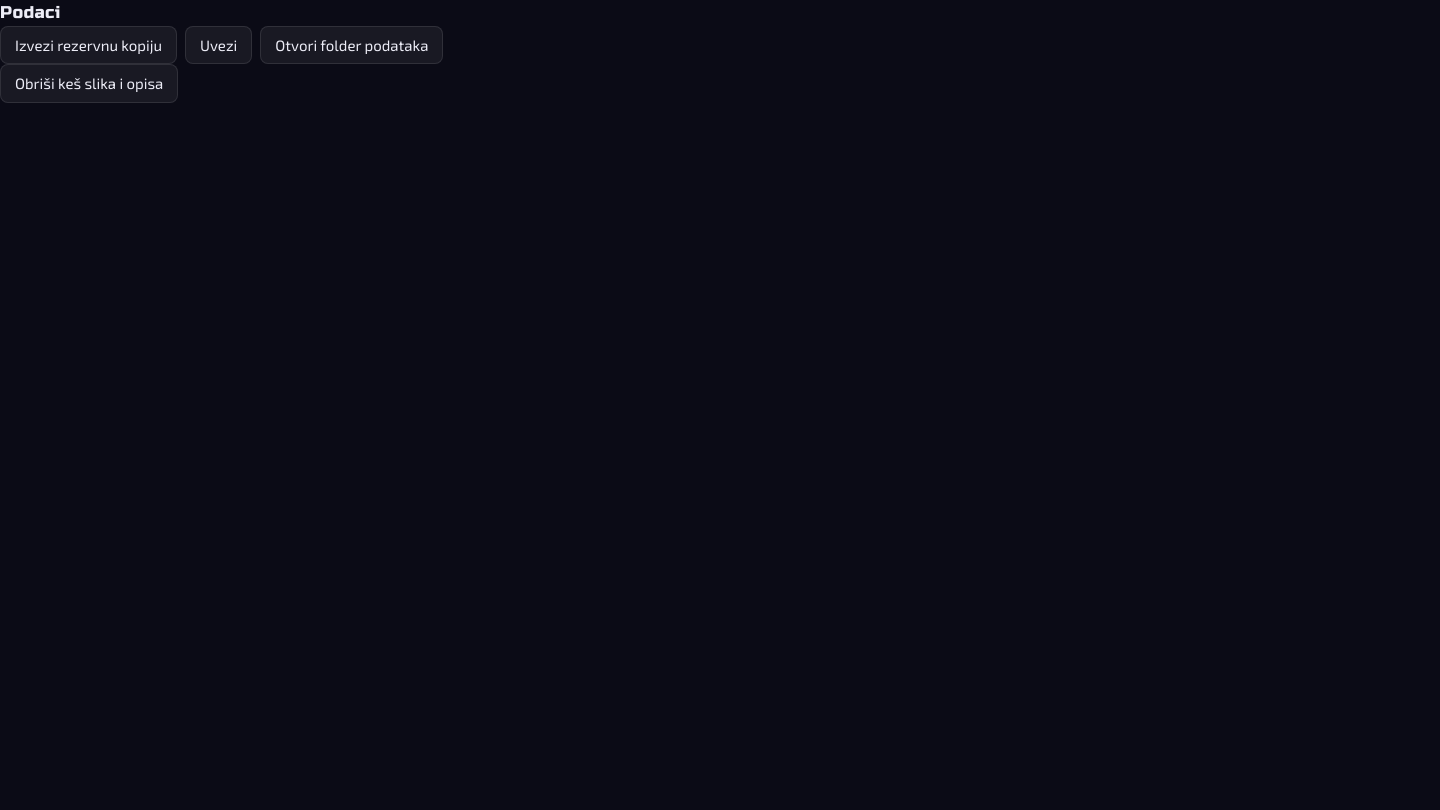
DataSection › omits the date line when the backup has no date and shows skipped entries when > 0
This screenshot has width=1440, height=810.
Click the button "Uvezi" at (219, 45), box 185,26 -> 252,64
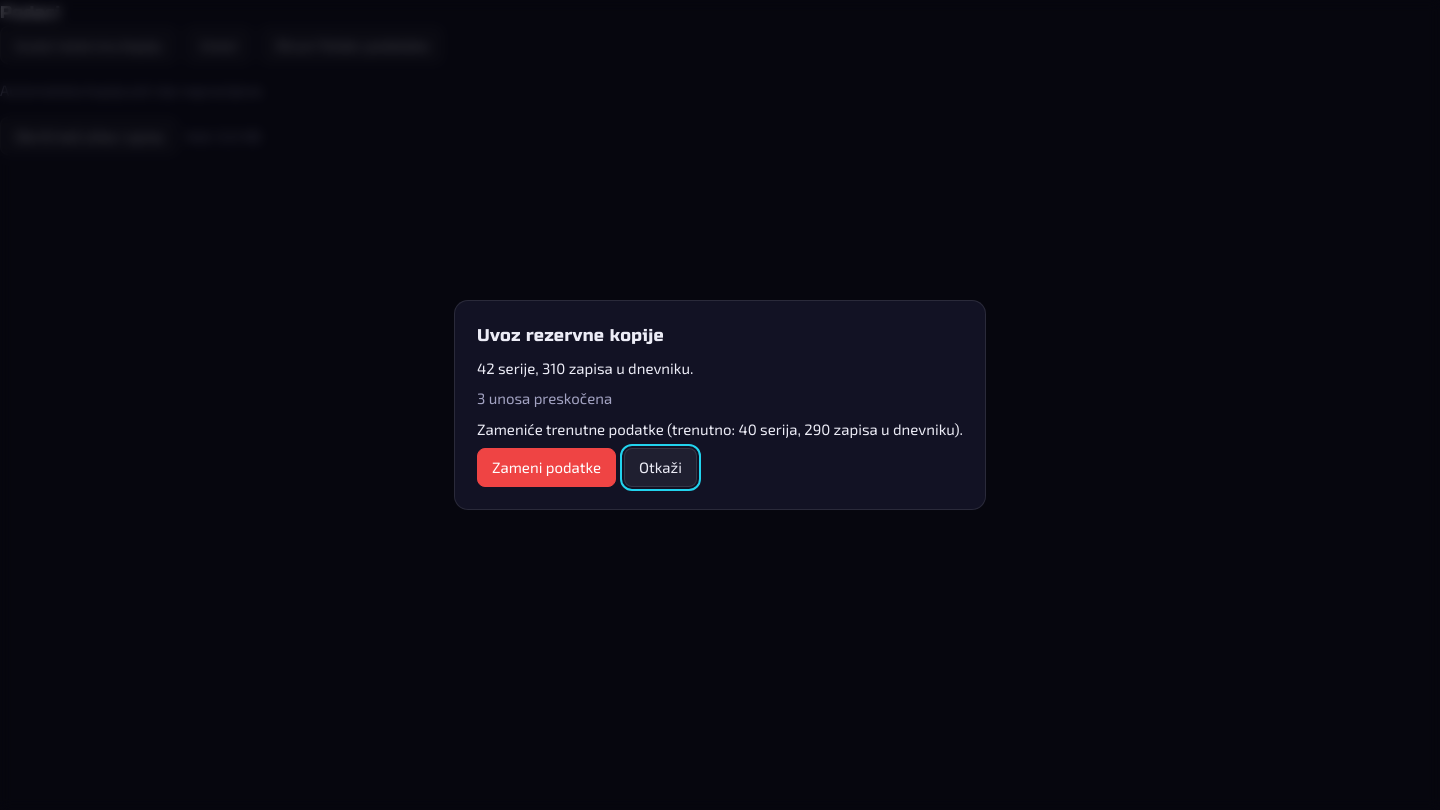
Result: the text "3 unosa preskočena" is shown at 477,389 -> 612,407
